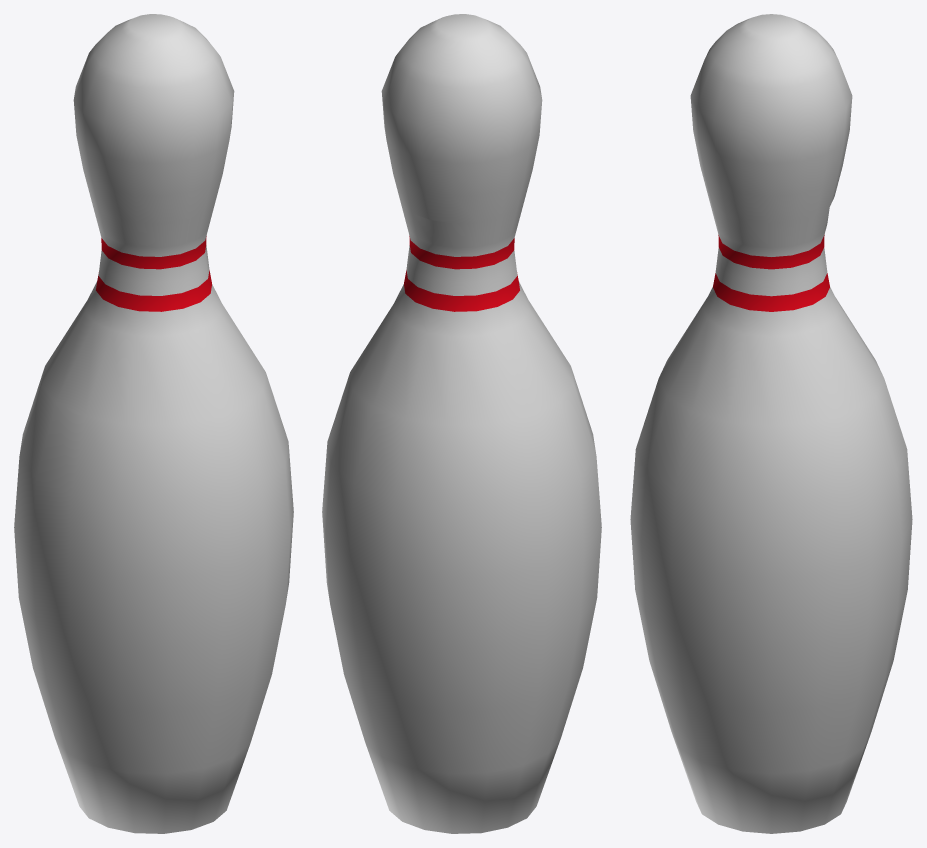
The model's file is BowlingPin.fbx.
3 views of the same model, side by side, from view 1: azimuth 30°, elevation 25°; view 2: azimuth 150°, elevation 25°; view 3: azimuth 270°, elevation 25° (orthographic).
Parts seen in each view (by area): view 1: Cylinder; view 2: Cylinder; view 3: Cylinder.
Boxes of the visible parts, bbox=[...] form: Cylinder: bbox=[14, 14, 293, 833]; Cylinder: bbox=[322, 14, 601, 833]; Cylinder: bbox=[630, 14, 912, 833].
Size of the model in its own units: 0.1315 by 0.4 by 0.1315.
